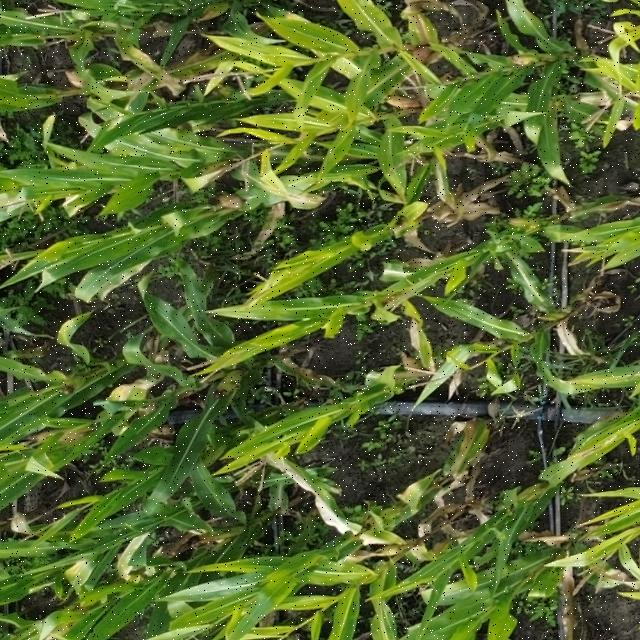northern-leaf-blight: (265, 452, 371, 546), (82, 252, 157, 317), (251, 164, 329, 222), (96, 369, 158, 434), (566, 412, 628, 468)
